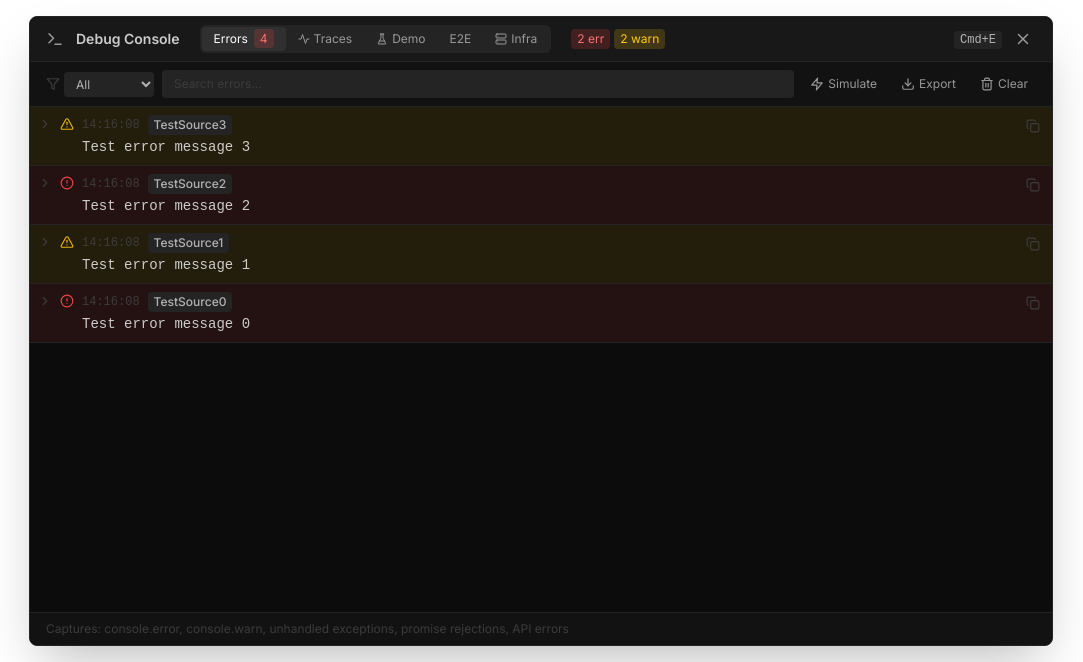
ErrorConsole › Filtering › filters errors by severity
Expected: the text "Test error message 0" is shown, [82,316,250,332]
Expected: the text "Test error message 1" is shown, [82,257,250,273]
// Filter to only errors (even indices are 'error', odd are 'warn')
Select "Errors" in the dropdown at (109, 84), box [64,72,154,96]
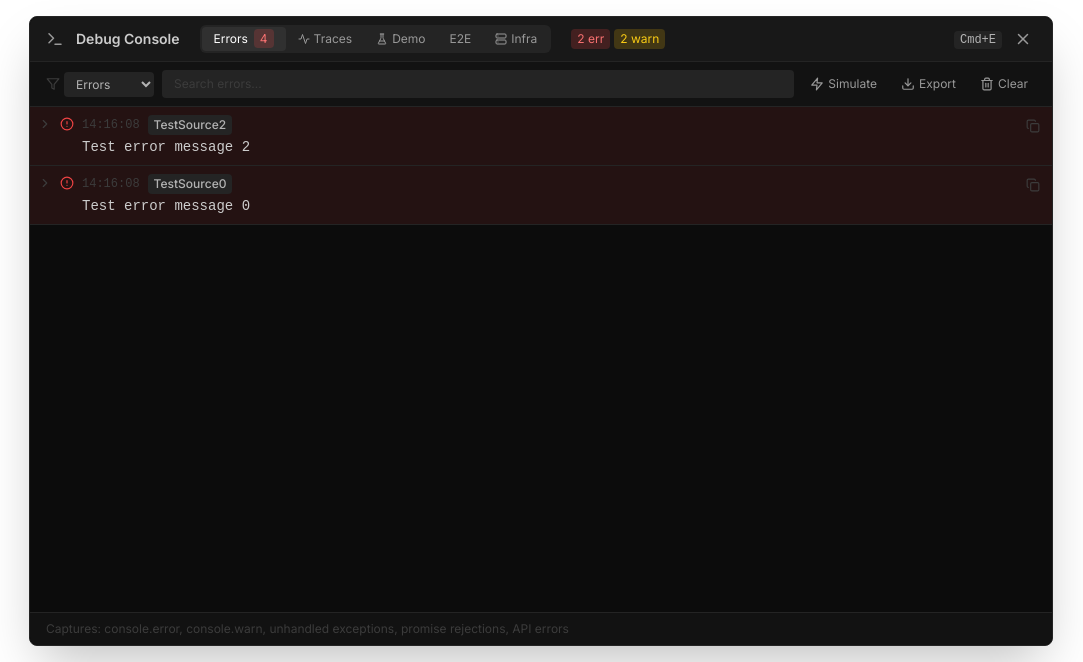
Expected: the text "Test error message 0" is shown, [82,198,250,214]
Expected: the text "Test error message 1" is gone
